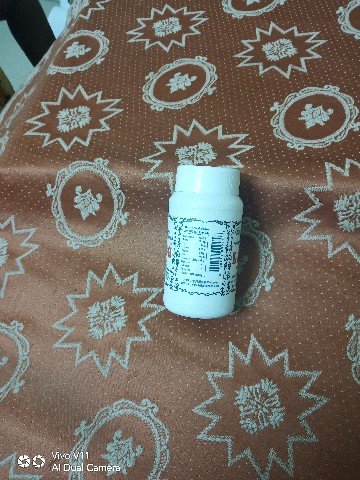lgasafoetidapowder large: (130, 149, 262, 331)
